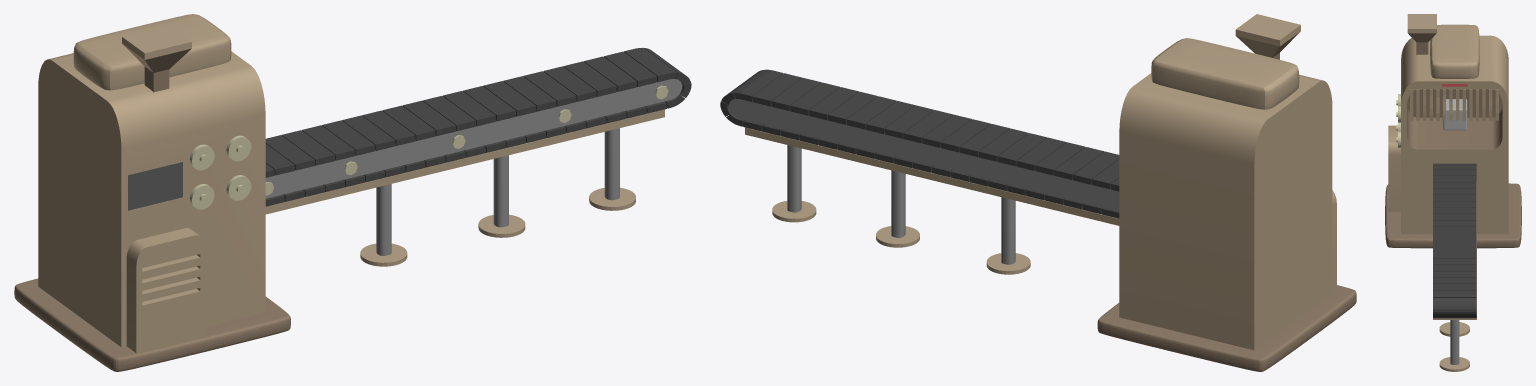
The model's file is factory_anim.fbx.
3 views of the same model, side by side, from view 1: azimuth 30°, elevation 25°; view 2: azimuth 150°, elevation 25°; view 3: azimuth 270°, elevation 25° (orthographic). The views are drawn at different scales.
Parts seen in each view (by area): view 1: machine, tapis roulant, bloc machine, intérieur tapis, machine pied, machine haut, Plane.003, pied tapis, Cube, pieds ronds tapis, boutons, boulon; view 2: machine, tapis roulant, intérieur tapis, machine haut, machine pied, Plane.003, pied tapis, pieds ronds tapis, Cube; view 3: machine, tapis roulant, machine haut, machine pied, Plane.001, bloc machine, Cube, pieds ronds tapis, machine a laver, pied tapis, Plane.003, boutons.
Part boxes in pixels (bbox=[...]): machine: bbox=[38, 51, 265, 347]; tapis roulant: bbox=[265, 47, 691, 206]; bloc machine: bbox=[126, 228, 205, 353]; intérieur tapis: bbox=[265, 79, 682, 198]; machine pied: bbox=[14, 278, 290, 371]; machine haut: bbox=[73, 14, 231, 90]; Plane.003: bbox=[265, 109, 664, 214]; pied tapis: bbox=[376, 128, 619, 255]; Cube: bbox=[122, 25, 191, 92]; pieds ronds tapis: bbox=[360, 187, 635, 266]; boutons: bbox=[189, 135, 251, 209]; boulon: bbox=[265, 85, 668, 195]; machine: bbox=[1119, 73, 1332, 350]; tapis roulant: bbox=[720, 69, 1119, 218]; intérieur tapis: bbox=[728, 99, 1119, 210]; machine haut: bbox=[1151, 38, 1299, 109]; machine pied: bbox=[1097, 285, 1356, 371]; Plane.003: bbox=[745, 127, 1119, 225]; pied tapis: bbox=[787, 145, 1015, 264]; pieds ronds tapis: bbox=[772, 201, 1030, 274]; Cube: bbox=[1235, 14, 1300, 59]; machine: bbox=[1401, 35, 1508, 233]; tapis roulant: bbox=[1433, 163, 1476, 318]; machine haut: bbox=[1430, 24, 1479, 78]; machine pied: bbox=[1385, 183, 1521, 248]; Plane.001: bbox=[1410, 89, 1498, 120]; bloc machine: bbox=[1388, 125, 1400, 211]; Cube: bbox=[1407, 14, 1436, 54]; pieds ronds tapis: bbox=[1439, 322, 1469, 371]; machine a laver: bbox=[1442, 99, 1467, 130]; pied tapis: bbox=[1450, 320, 1459, 364]; Plane.003: bbox=[1433, 181, 1476, 319]; boutons: bbox=[1396, 94, 1400, 148].
Size of the model in its own units: 1074 by 498 by 320.
